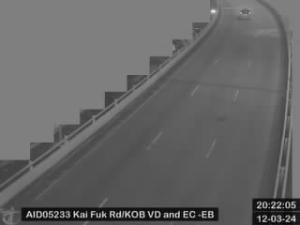vehicle: (239, 8, 251, 18)
